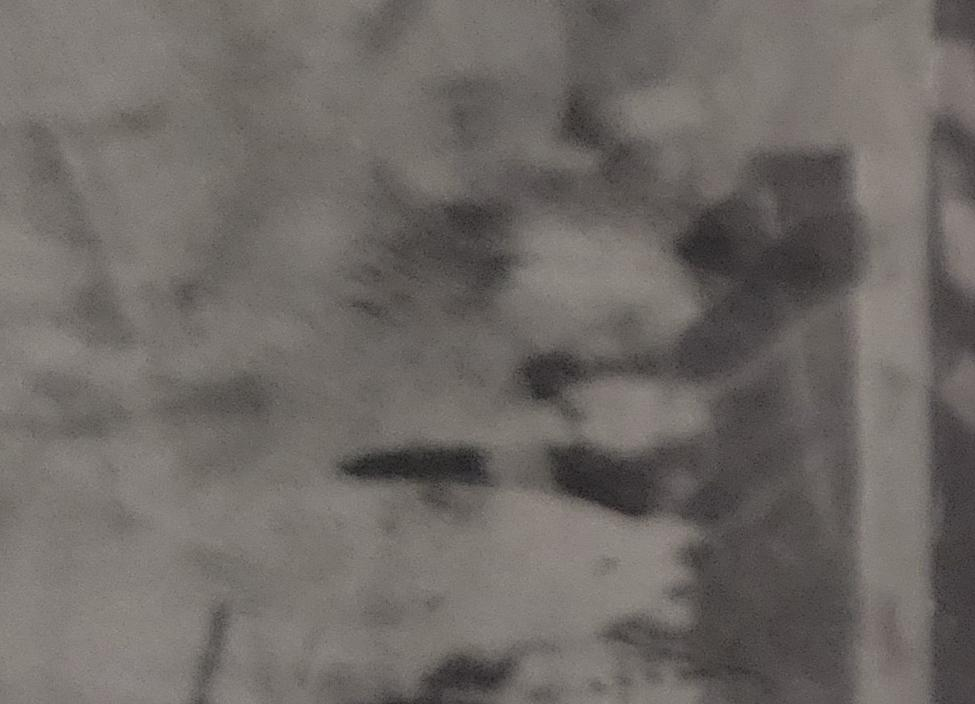Chip: (1, 391, 652, 704)
